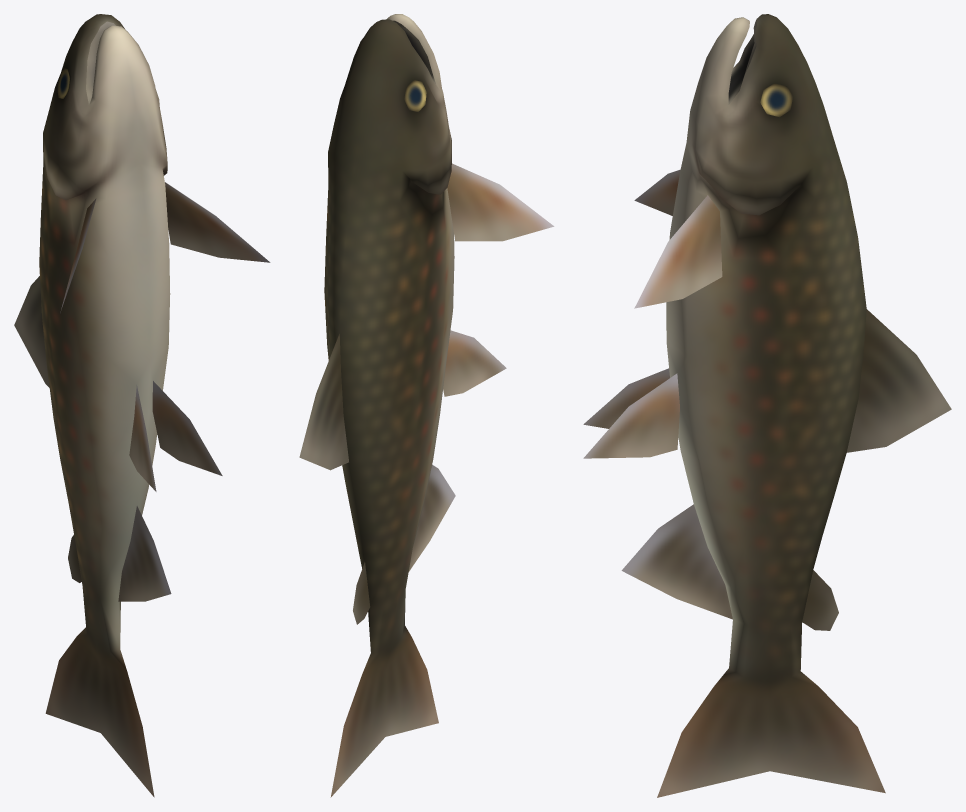
File: char.glb
The picture shows the model from 3 angles, left to right: view 1: azimuth 30°, elevation 25°; view 2: azimuth 150°, elevation 25°; view 3: azimuth 270°, elevation 25°; orthographic projection. The views are drawn at different scales.
Parts seen in each view (by area): view 1: FishOoiwana__mOoiwana; view 2: FishOoiwana__mOoiwana; view 3: FishOoiwana__mOoiwana.
Boxes of the visible parts, box(x1,y1,x2,y2) form: FishOoiwana__mOoiwana: box(14, 14, 270, 797); FishOoiwana__mOoiwana: box(299, 14, 554, 797); FishOoiwana__mOoiwana: box(583, 14, 951, 797).
Size of the model in its own units: 0.3116 by 1.05 by 0.4493.
1 material, 1 textured.
